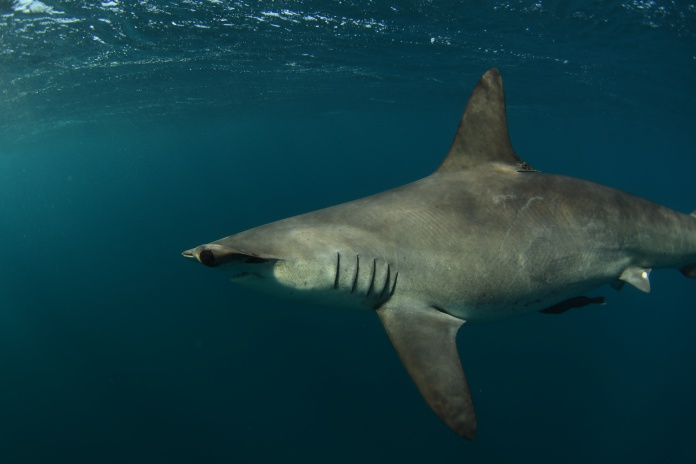Hammer: (163, 64, 696, 448)
